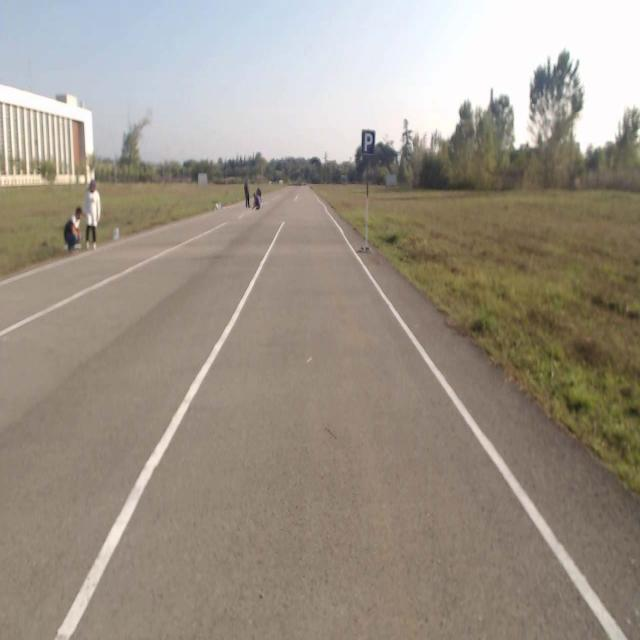park: (362, 129, 376, 155)
